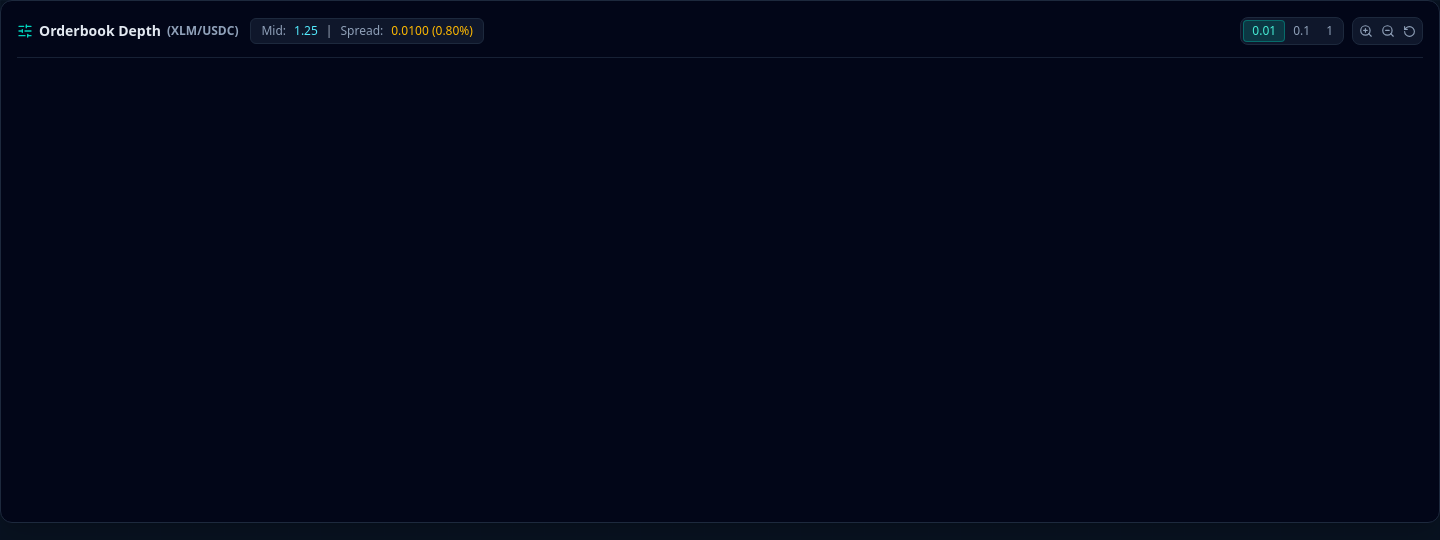
OrderbookDepthChart UI Component › allows switching price aggregation steps (0.01, 0.1, 1.0)
Step 1. Click the button "0.1" → (1302, 31), box [1285,21,1318,41]
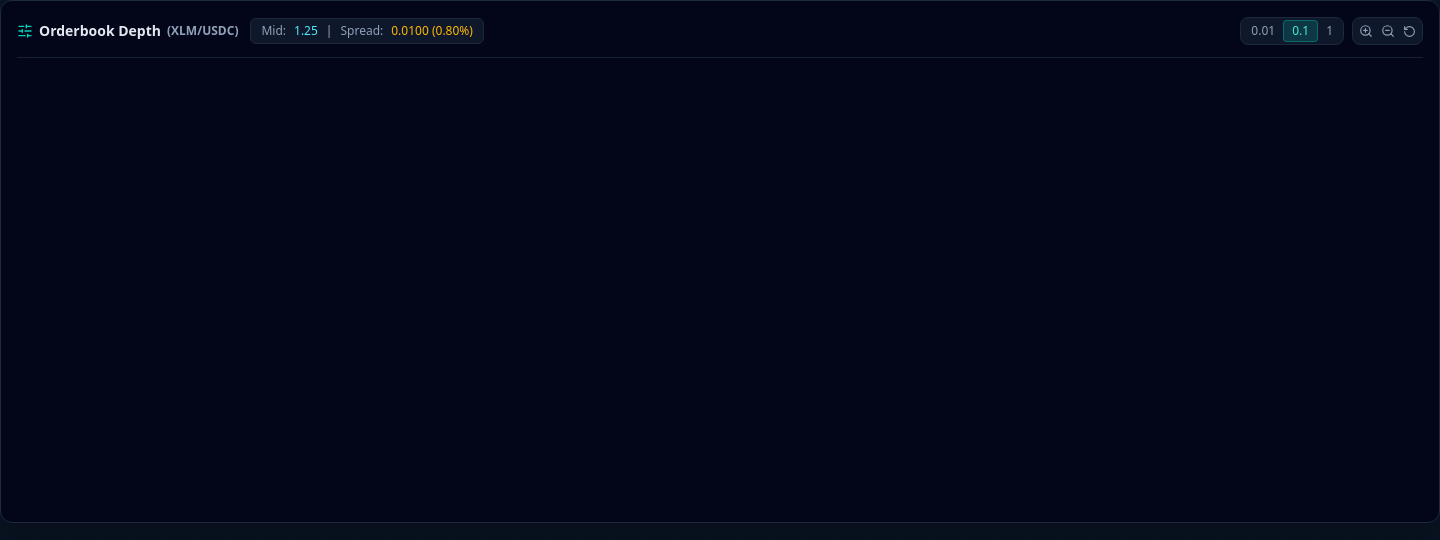
Now the button "0.1" is pressed, box [1283,20,1318,42]
